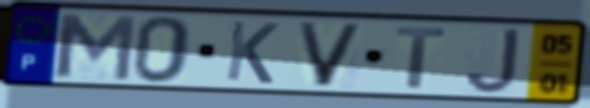0: (131, 13, 195, 85)
J: (463, 26, 523, 96)
K: (222, 18, 281, 87)
M: (52, 11, 139, 83)
T: (393, 26, 449, 91)
V: (293, 19, 369, 89)
